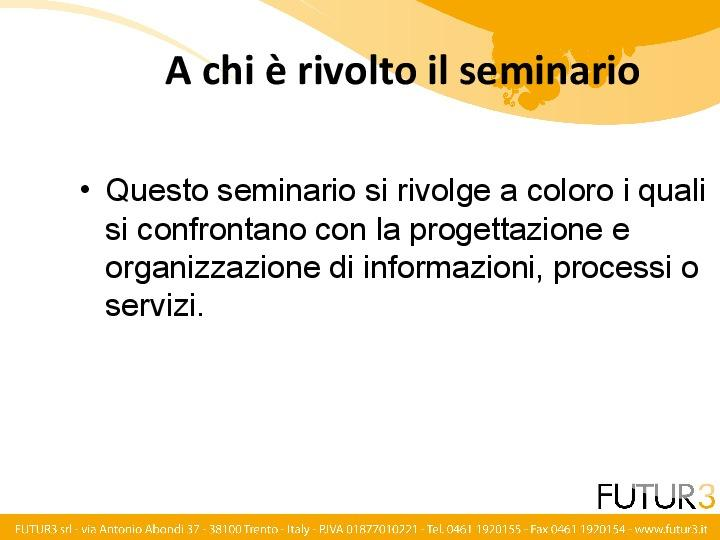paragraph: (105, 166, 712, 332)
title: (152, 50, 648, 95)
